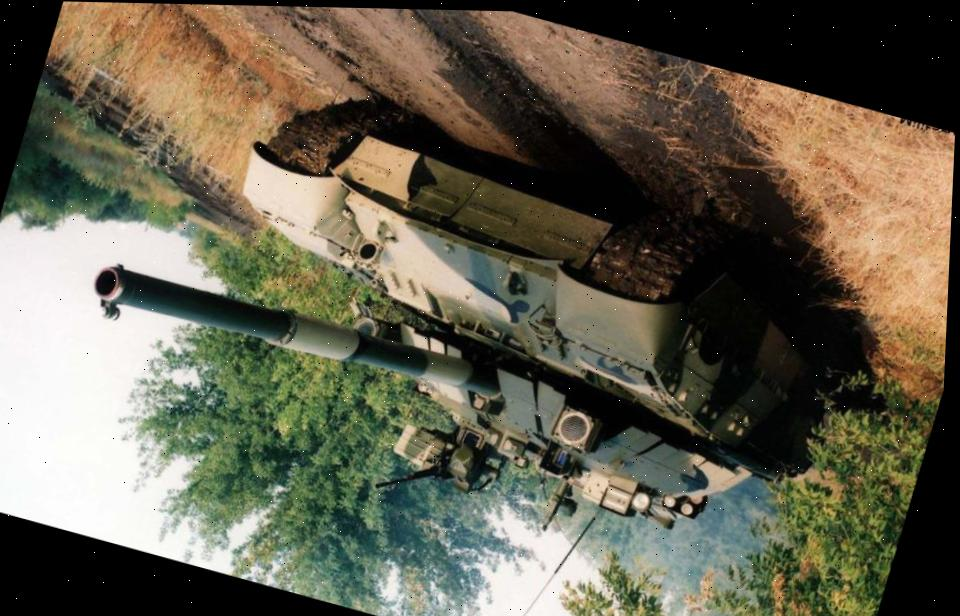tank: (49, 37, 892, 603)
